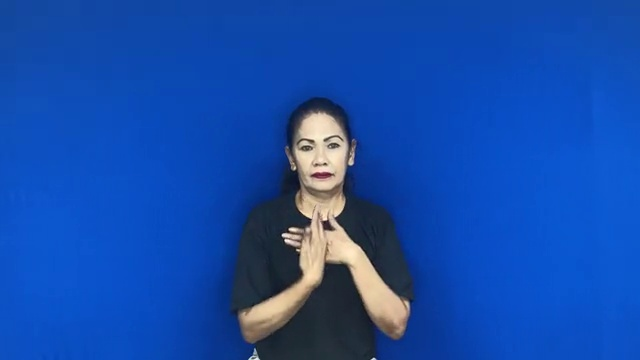bread: (275, 200, 369, 285)
